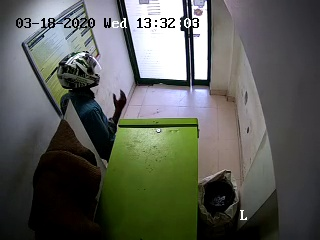helmet: (56, 51, 106, 91)
